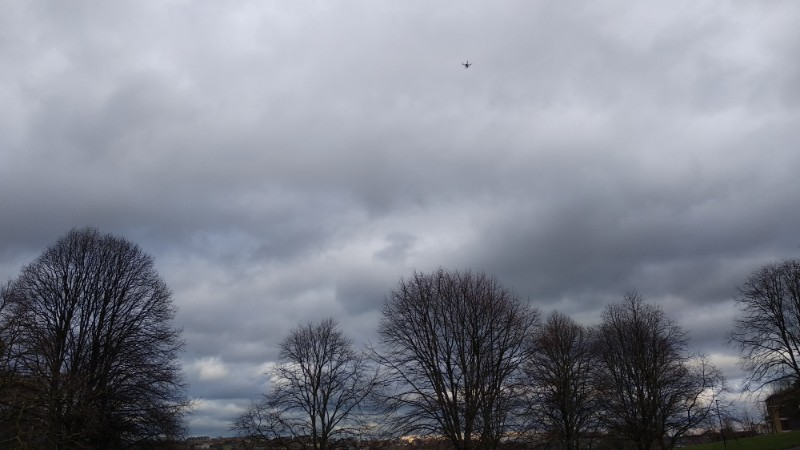drone: (461, 60, 473, 69)
